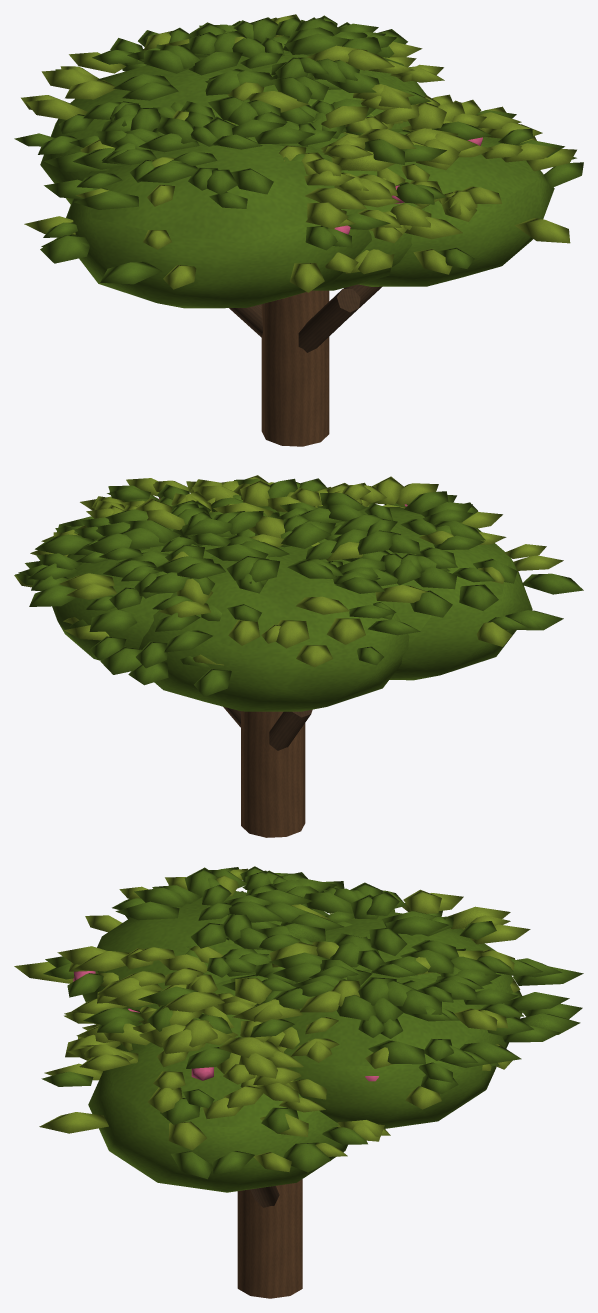
The model's file is tree-3.fbx.
3 renders of one model, top to bottom at view 1: azimuth 30°, elevation 25°; view 2: azimuth 150°, elevation 25°; view 3: azimuth 270°, elevation 25°, orthographic. The views are drawn at different scales.
Visible parts, largest first — view 1: tree-3__Geometry; view 2: tree-3__Geometry; view 3: tree-3__Geometry.
Boxes of the visible parts, x1,y1,x2,y2 form: tree-3__Geometry: (14, 14, 583, 446); tree-3__Geometry: (14, 475, 583, 837); tree-3__Geometry: (14, 866, 583, 1298).
Bounding box in the file's own units: 3.06 × 1.9 × 2.84.
